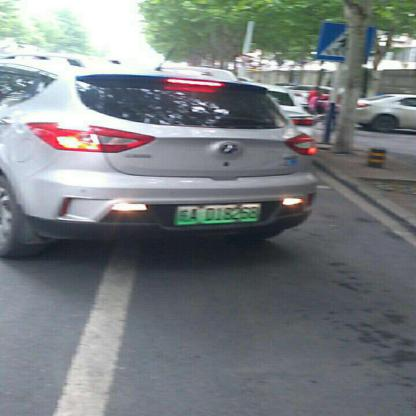lp: (176, 202, 263, 225)
